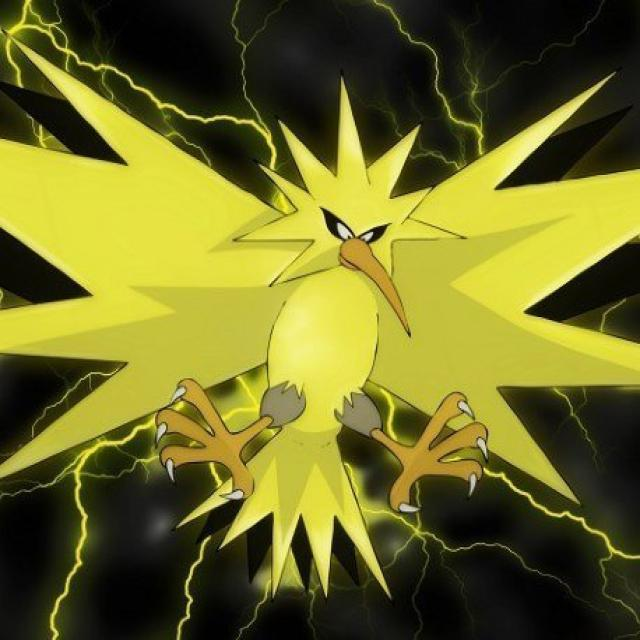Zapdos: (141, 114, 512, 546)
